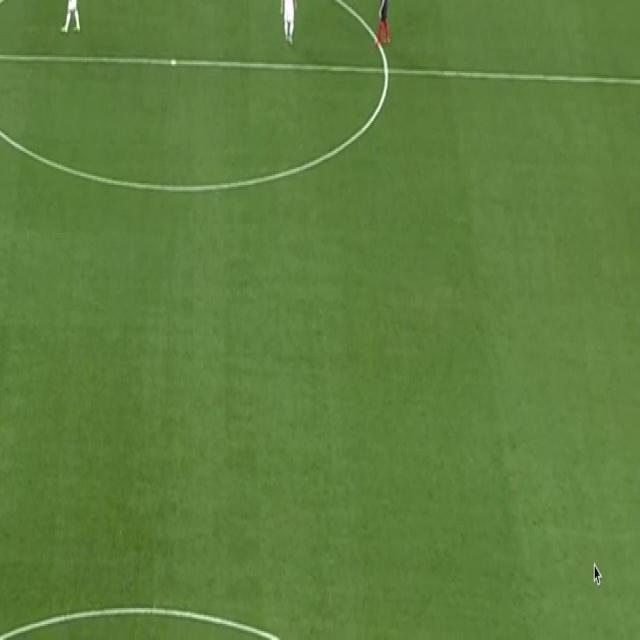another-player: (374, 0, 390, 46)
player-white: (279, 0, 297, 44), (61, 0, 80, 34)
